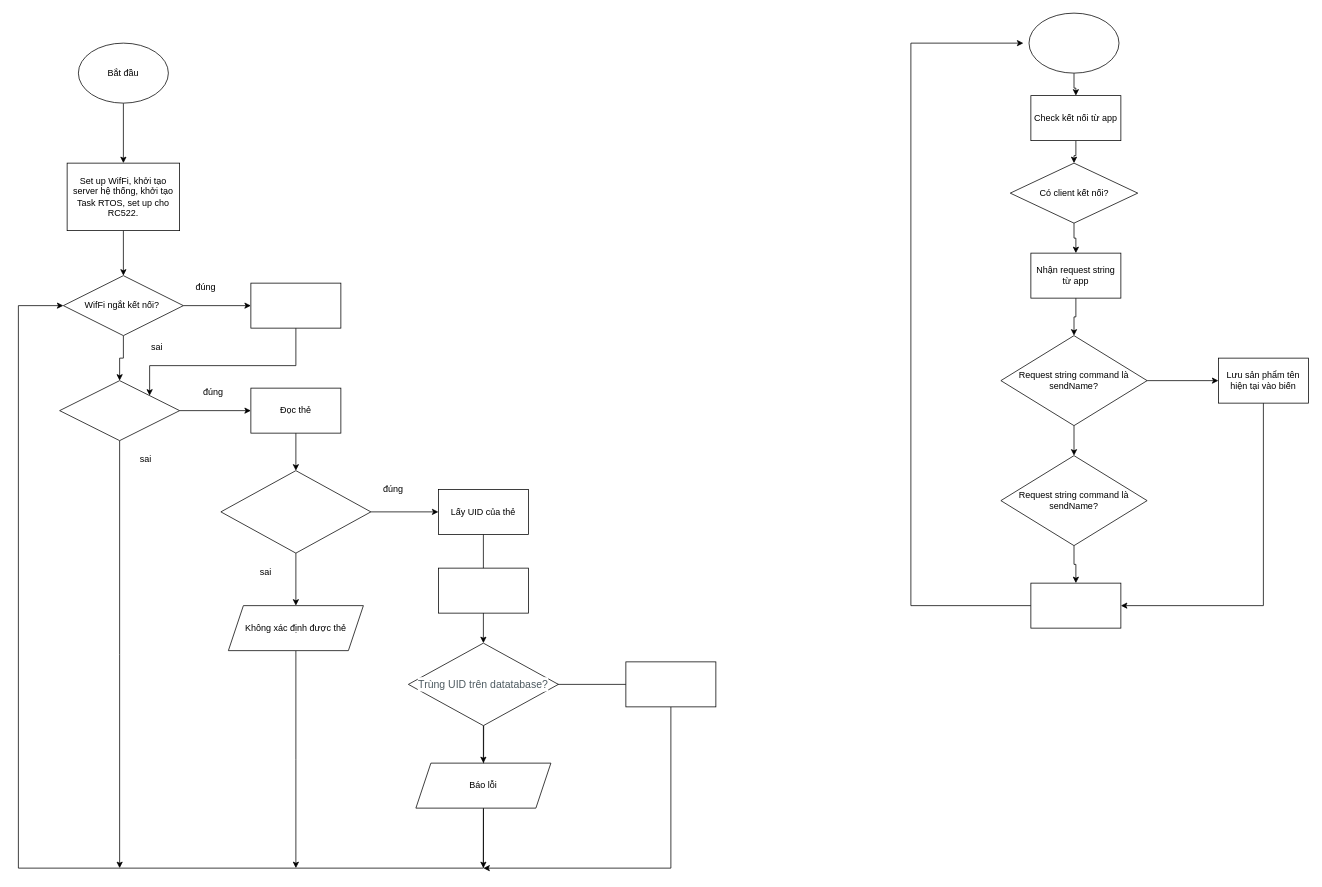
Some shapes in this 1322 by 887 pixel diagram are drawn without their labels. The shapes that lost their labels are listed below. From the top down, each one's centre as x and y in pixels, then its label:
At point 1073,42: "Task RTOS".
At point 295,305: "Kết nối lại WiFi".
At point 119,410: "Có thẻ gần đầu đọc?".
At point 295,511: "Là thẻ Mifare Ultralight?".
At point 483,590: "Tạo chuỗi request: UID + Tên sản phẩm + 1 + 0".
At point 1075,605: "Gửi phản hồi xác nhận lại app".
At point 670,684: "Gửi client request về CSDL trên server".
